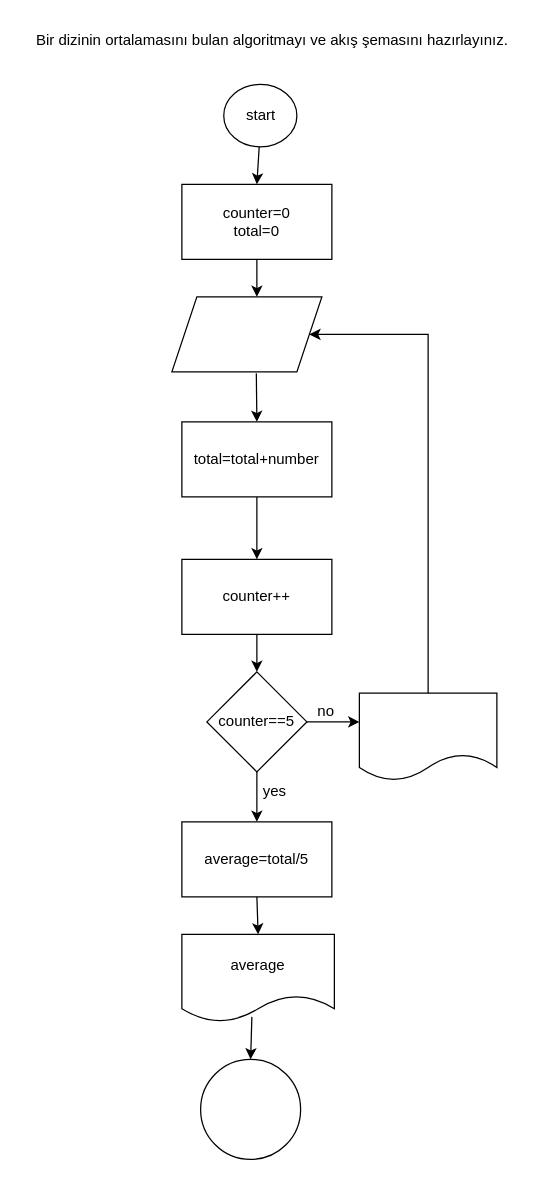
Image size: 543x1181. Some labels were removed from this diagram. The centre of each missing label's shape, as x and y in pixels:
"number" goes at (x=246, y=334).
"stop" goes at (x=250, y=1108).
"you entered number,enter new number" goes at (x=427, y=736).
